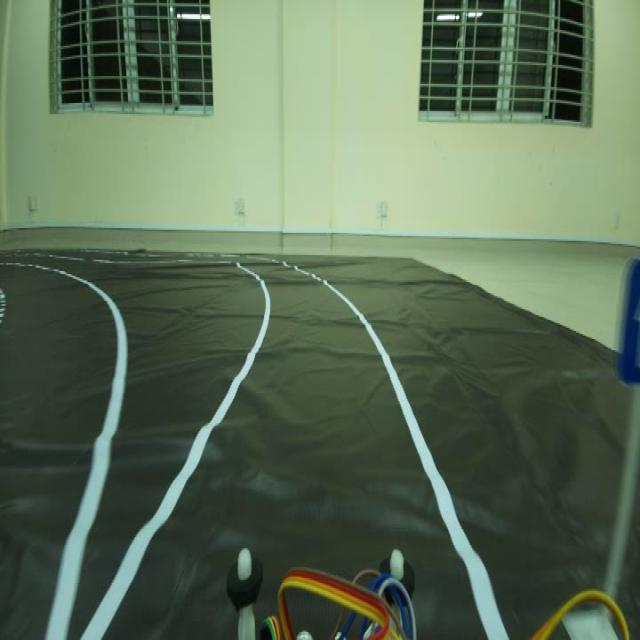onewayroad: (613, 251, 640, 383)
